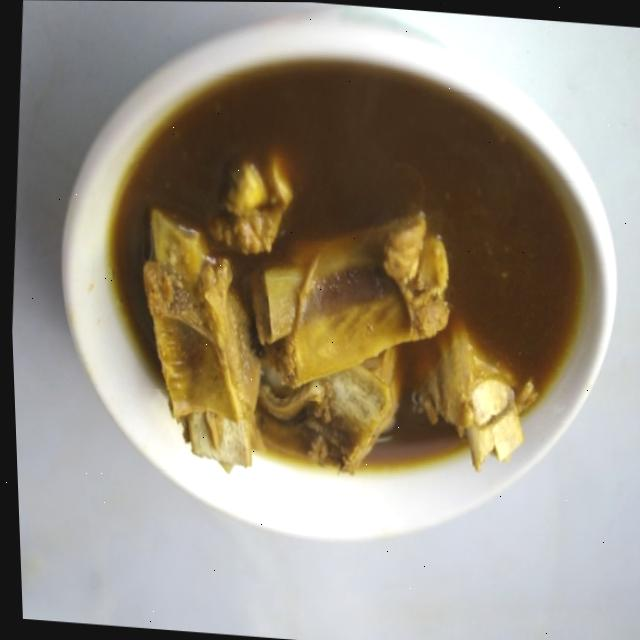汤锅炖物: (52, 53, 617, 552)
